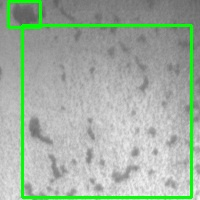patches: (8, 2, 40, 27)
pitted_surface: (22, 25, 191, 197)
